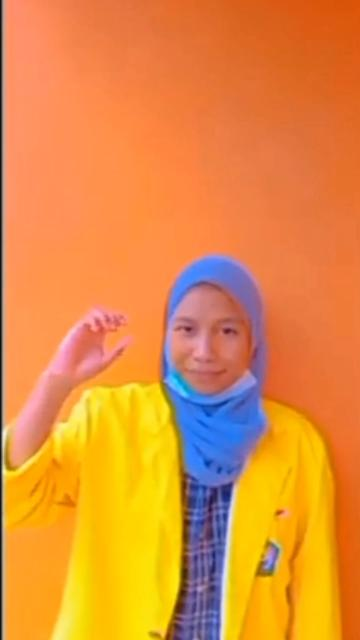C: (47, 304, 128, 384)
